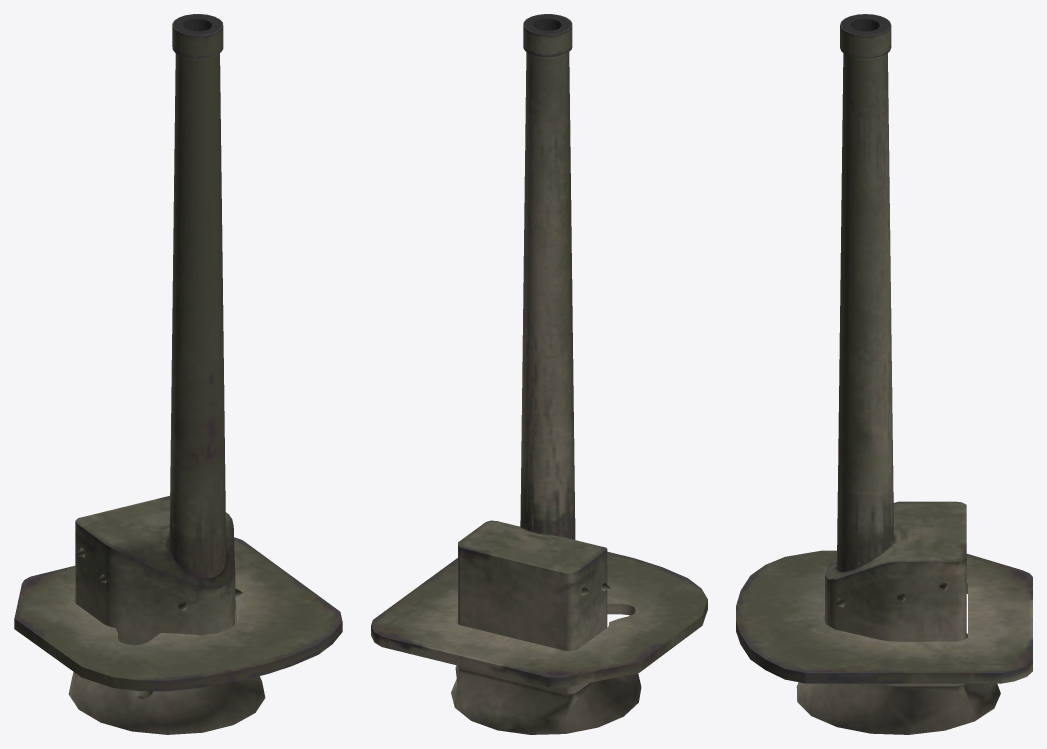
File: Gun_01.glb
3 renders of one model, left to right at view 1: azimuth 30°, elevation 25°; view 2: azimuth 150°, elevation 25°; view 3: azimuth 270°, elevation 25°, orthographic. The views are drawn at different scales.
Visible parts, largest first — view 1: set_0_group_0; view 2: set_0_group_0; view 3: set_0_group_0.
Boxes of the visible parts, x1,y1,x2,y2 form: set_0_group_0: [14, 14, 342, 734]; set_0_group_0: [371, 14, 707, 734]; set_0_group_0: [736, 14, 1032, 734].
Bounding box in the file's own units: 0.7685 × 1.99 × 0.7848.
Materials: 1 (1 with a texture image).
